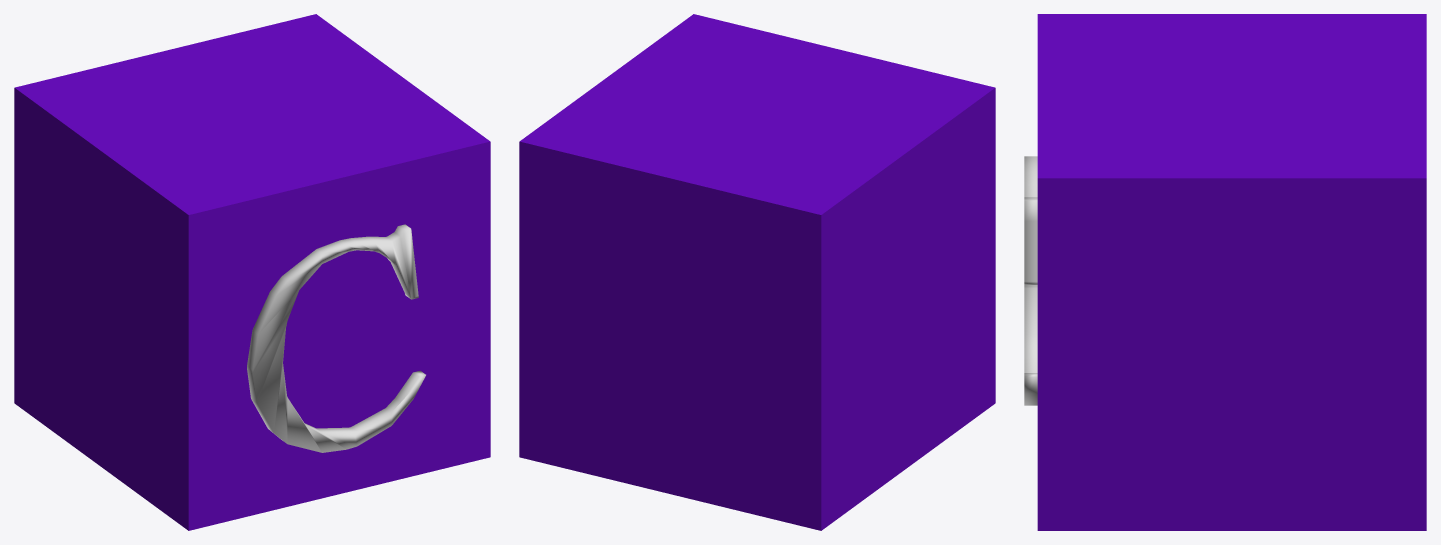
The model's file is Cblock.fbx.
3 renders of one model, left to right at view 1: azimuth 30°, elevation 25°; view 2: azimuth 150°, elevation 25°; view 3: azimuth 270°, elevation 25°, orthographic. The views are drawn at different scales.
Parts seen in each view (by area): view 1: pCube1, Trim_Char_C_1_1; view 2: pCube1; view 3: pCube1, Trim_Char_C_1_1.
Part boxes in pixels (left/top/right/bottom): pCube1: left=14, top=14, right=490, bottom=530; Trim_Char_C_1_1: left=247, top=224, right=425, bottom=452; pCube1: left=519, top=14, right=995, bottom=530; pCube1: left=1037, top=14, right=1426, bottom=530; Trim_Char_C_1_1: left=1024, top=156, right=1037, bottom=405.
Bounding box in the file's own units: 4 × 4 × 4.14.
